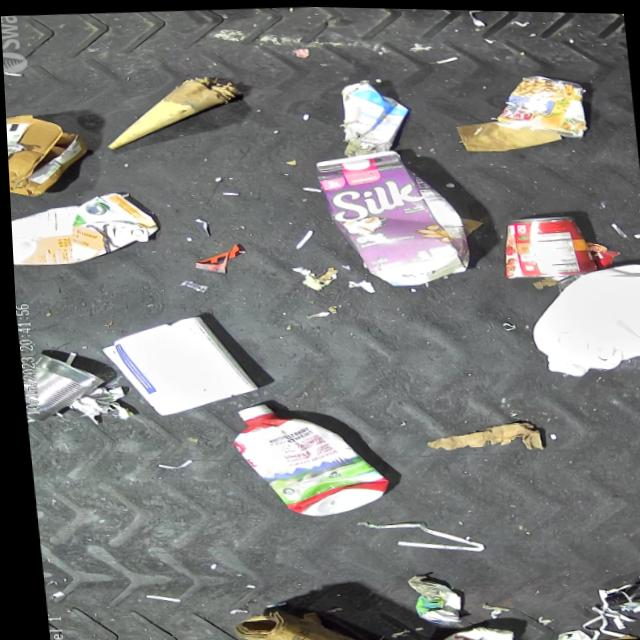can: (493, 209, 595, 279), (488, 68, 586, 140), (15, 349, 104, 424), (416, 622, 507, 640)
milk_jug: (519, 257, 640, 377)
non_white_jug: (310, 143, 473, 288), (224, 397, 386, 520), (8, 189, 161, 272)
